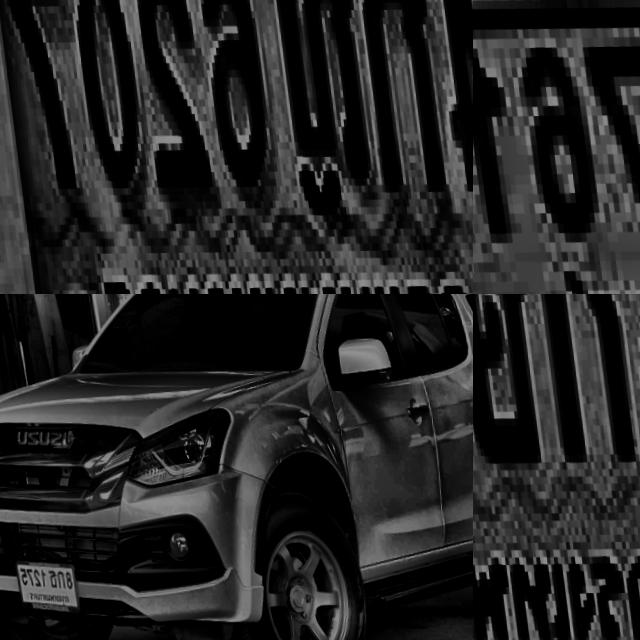license-plate: (0, 0, 473, 294), (473, 294, 640, 640), (473, 0, 640, 294), (3, 548, 77, 625)
